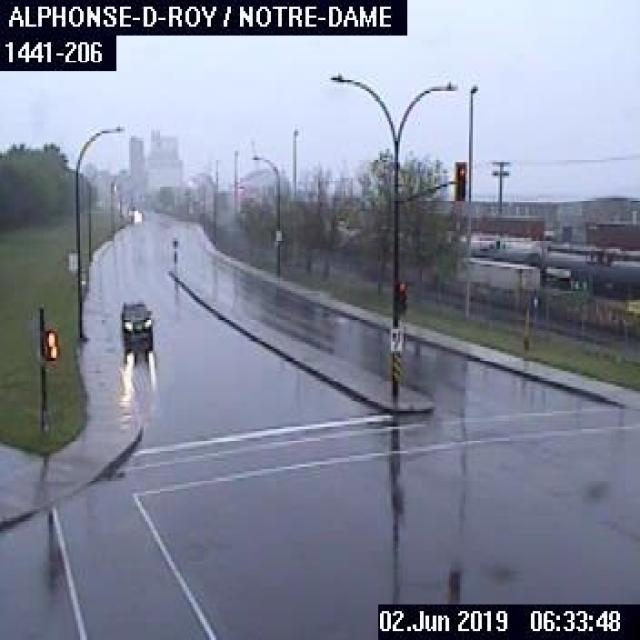vehicle: (118, 300, 154, 342)
